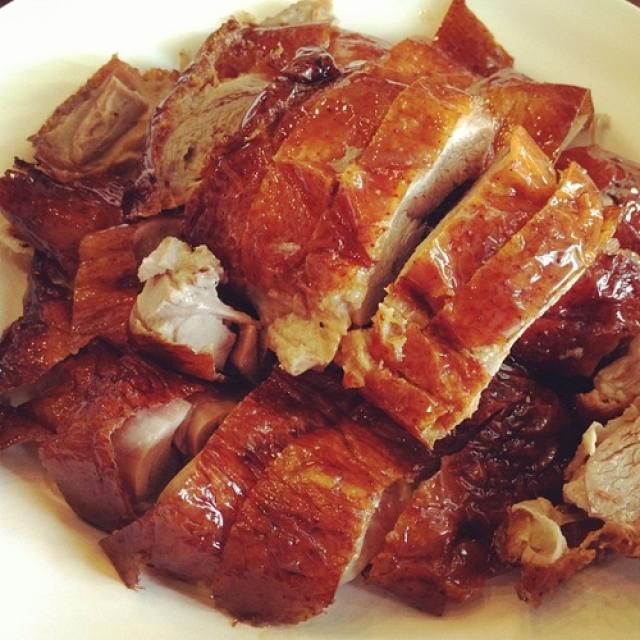烧串烤肉: (11, 5, 617, 618)
